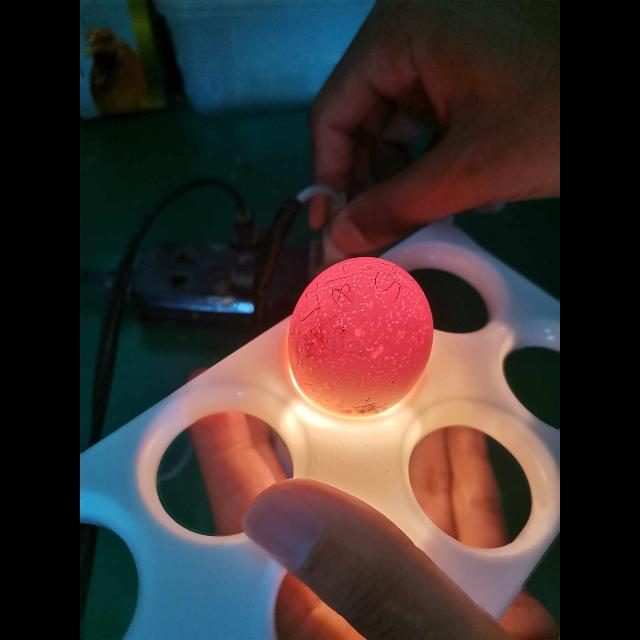Infertile: (292, 253, 436, 419)
